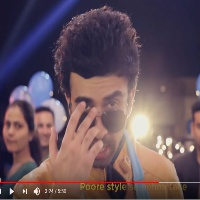ring: (78, 127, 105, 150)
